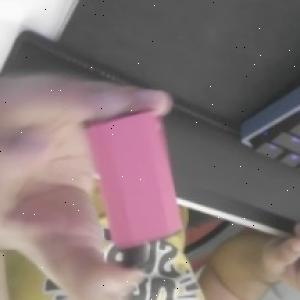Blume-E-Ciggirate: (80, 107, 188, 272)
